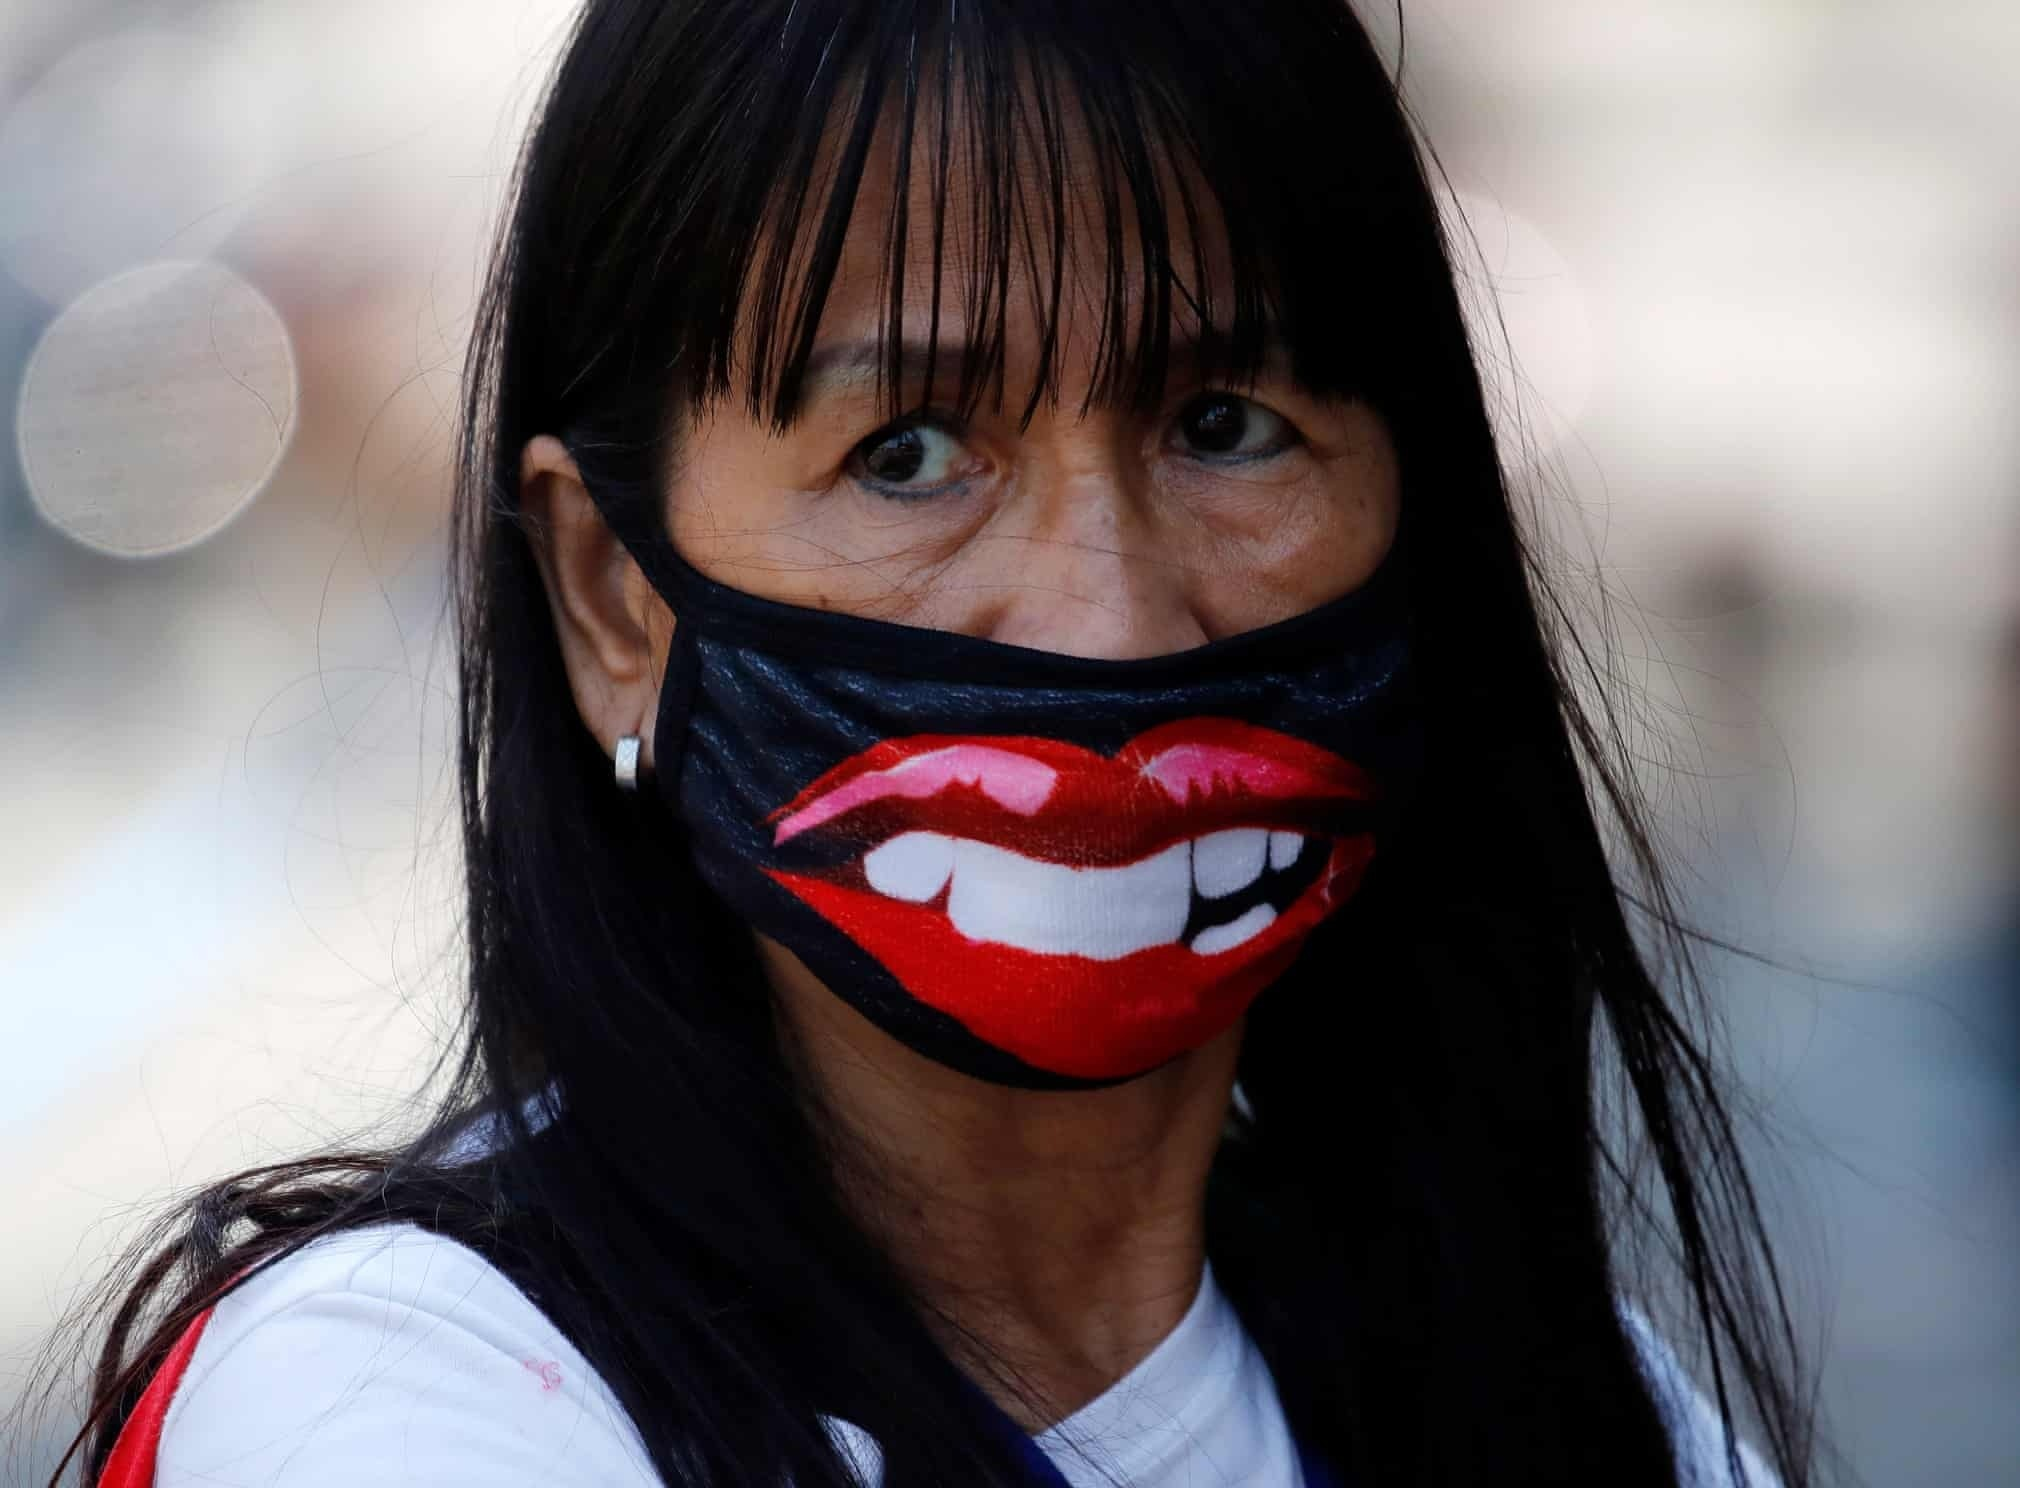face_with_mask: (498, 2, 1454, 1116)
